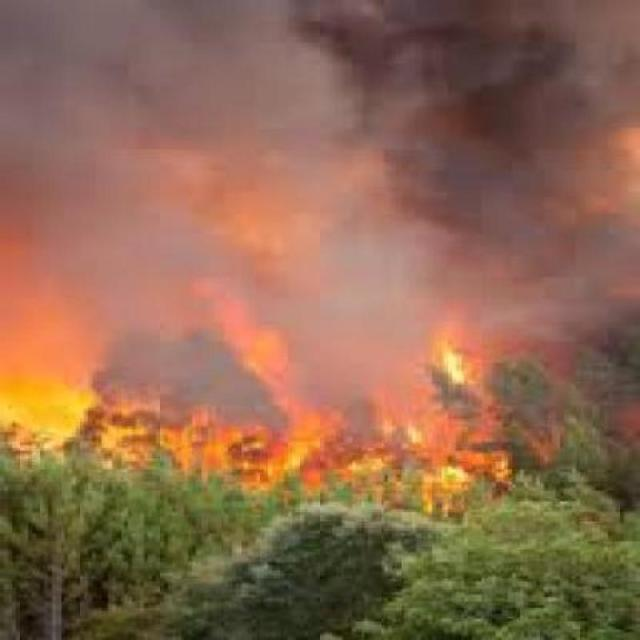Fire: (6, 202, 471, 524)
Smoke: (287, 0, 640, 186)
